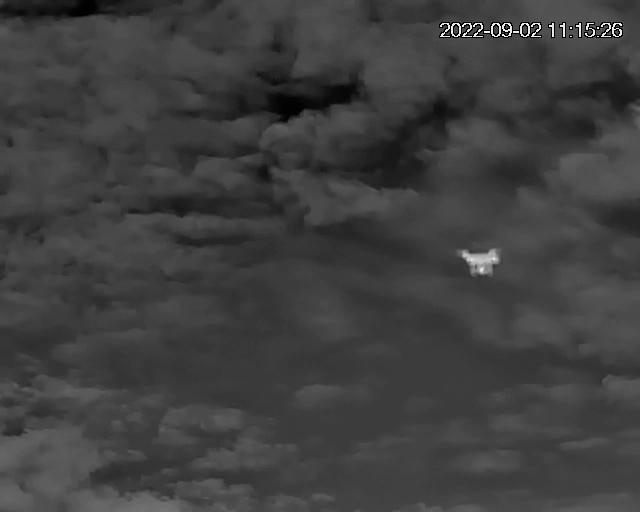DJI-Phantom: (460, 248, 505, 281)
